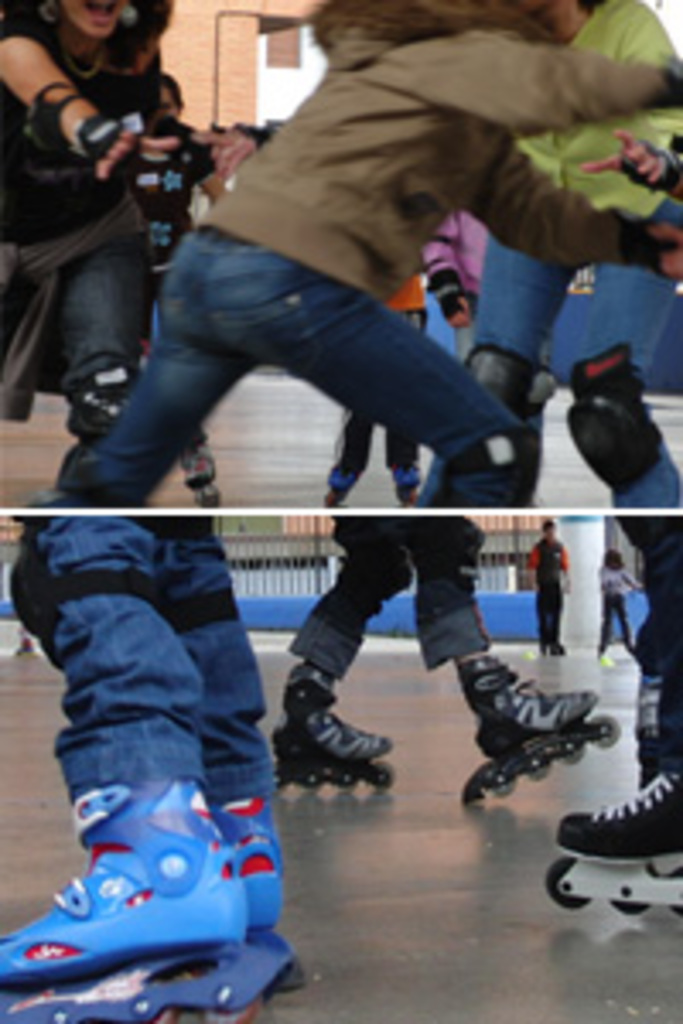Person: (0, 0, 683, 509), (0, 507, 311, 1024), (271, 515, 601, 808), (547, 513, 683, 913), (530, 522, 570, 654), (593, 551, 638, 647)
